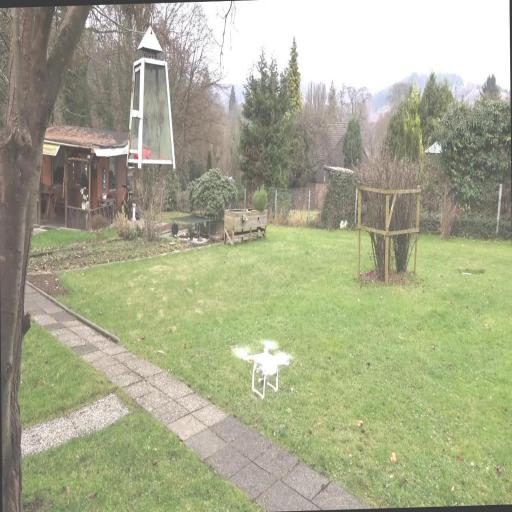drone: (234, 334, 293, 400)
